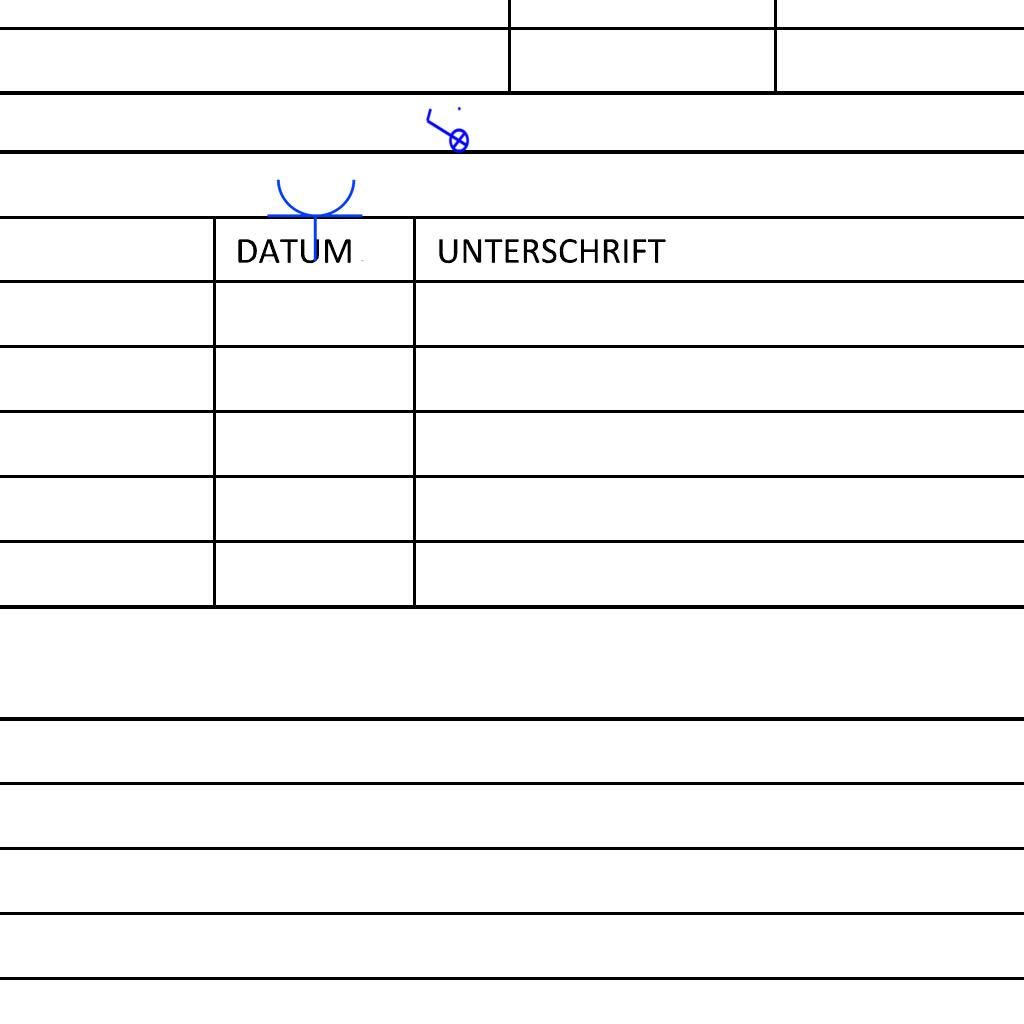Ausschalter_beleuchtet: (422, 104, 470, 160)
Schukosteckdose_einfach: (266, 175, 366, 262)
